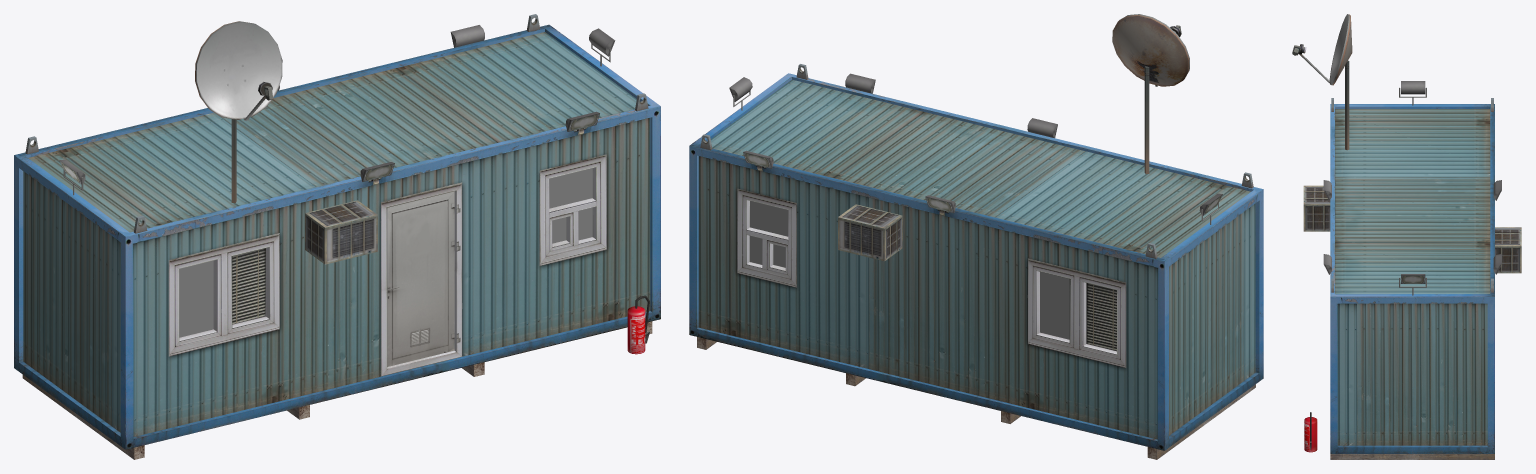
File: Container_LivingQuarters.fbx
The picture shows the model from 3 angles, left to right: view 1: azimuth 30°, elevation 25°; view 2: azimuth 150°, elevation 25°; view 3: azimuth 270°, elevation 25°; orthographic projection. The views are drawn at different scales.
Parts seen in each view (by area): view 1: Contanier01, Door01, Sat01, Fire04; view 2: Contanier01, Sat01; view 3: Contanier01, Sat01, Fire04.
Part boxes in pixels (box(x1,y1,x2,y2)): Contanier01: box(14, 14, 660, 459); Door01: box(387, 191, 454, 366); Sat01: box(195, 21, 282, 203); Fire04: box(627, 295, 649, 354); Contanier01: box(689, 64, 1263, 459); Sat01: box(1112, 14, 1189, 174); Contanier01: box(1303, 81, 1521, 459); Sat01: box(1292, 14, 1352, 150); Fire04: box(1304, 412, 1317, 452).
Bounding box in the file's own units: 643 × 457 × 321.
